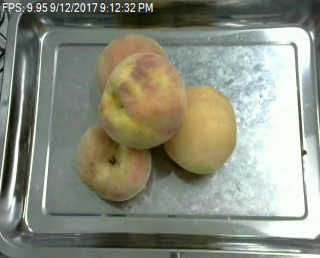Peach: (98, 52, 185, 149), (163, 85, 236, 174), (74, 123, 151, 201)
